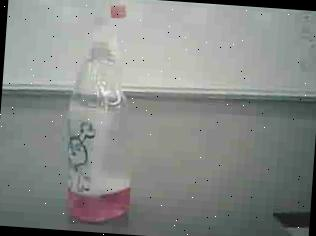hazard: (51, 0, 155, 231)
